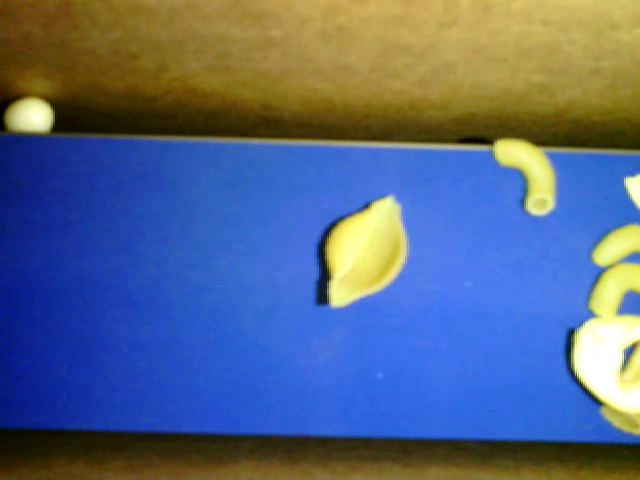elbow: (492, 137, 555, 217), (588, 262, 639, 317), (590, 223, 639, 267)
shell: (325, 195, 410, 308)
tortellini: (570, 314, 639, 414)
